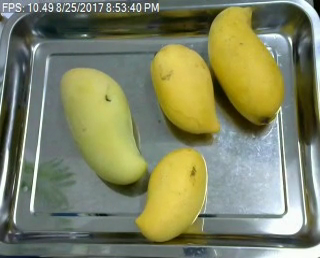Mango: (60, 65, 149, 183), (203, 4, 287, 127), (137, 148, 215, 243), (150, 43, 222, 138)
